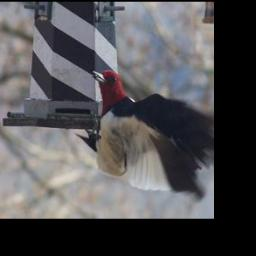Woodpecker: (80, 62, 214, 197)
